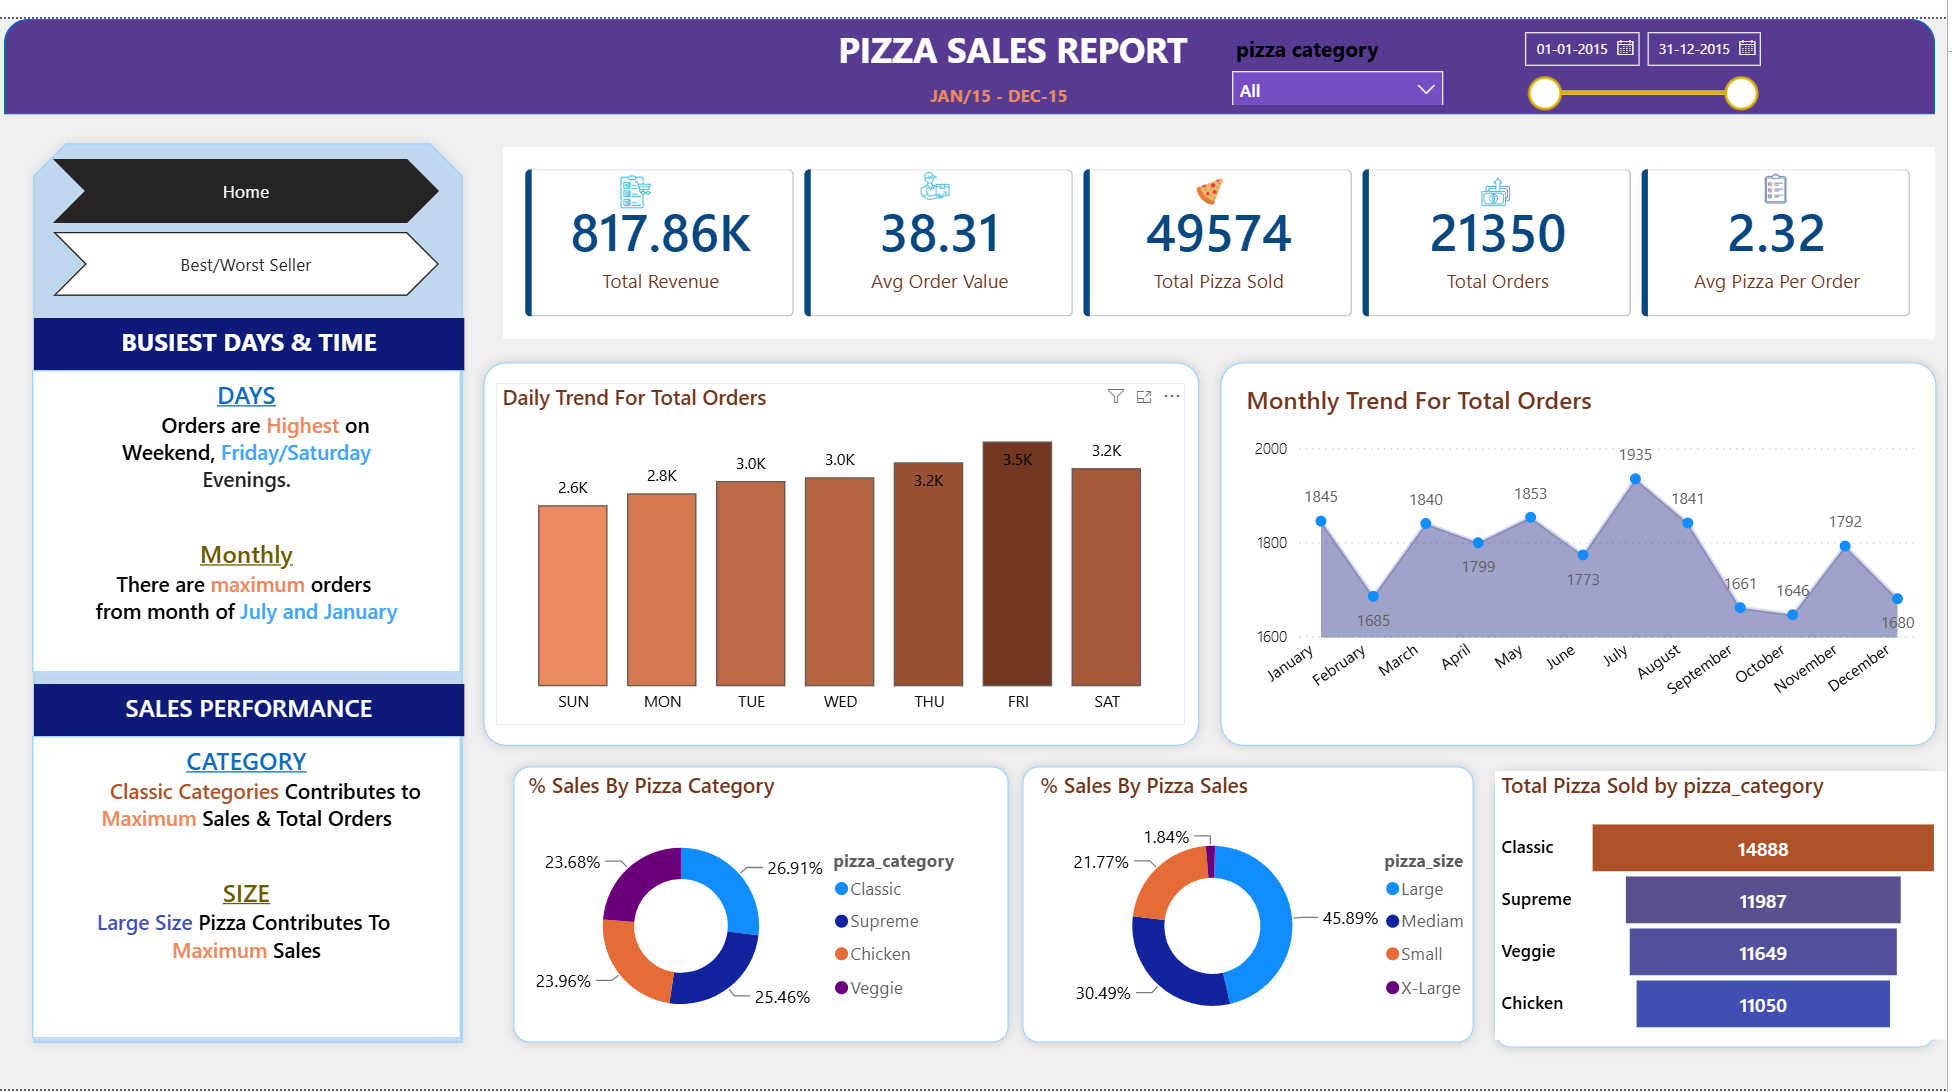

What the dashboard file says about the page in this screenshot:
{"tool":"powerbi","page":{"name":"Home","canvas":[1500,820],"ordinal":0},"visuals":[{"type":"cardVisual","fields":{"Data":["pizza_sales.Total Revenue","pizza_sales.Avg Order Value","pizza_sales.Total Pizza Sold","pizza_sales.Total Orders","pizza_sales.Avg Pizza Per Order"]},"box":[392.6,98.2,1098.2,147.2],"z":0},{"type":"image","box":[1133.4,119.6,40.6,25.6],"z":1000},{"type":"image","box":[911,121.9,46.7,20.6],"z":2000},{"type":"image","box":[475.5,119.6,37.8,25.6],"z":3000},{"type":"image","box":[709.4,116.6,28.9,22.8],"z":4000},{"type":"image","box":[1356.6,115,24.4,30],"z":5000},{"type":"shape","box":[10,0,1480.8,73.3],"z":6000},{"type":"textbox","box":[640,0,286.7,48.3],"z":7000},{"type":"textbox","box":[690,44.2,165.8,29.2],"z":8000},{"type":"shape","box":[369.6,255.4,565,310],"z":9000},{"type":"columnChart","title":"Daily Trend For Total Orders","fields":{"Category":["pizza_sales.Ordar Day"],"Y":["pizza_sales.Total Orders"]},"box":[387.3,279.1,528.3,262.5],"z":10000},{"type":"shape","box":[24.5,87.4,345.1,705.5],"z":11000},{"type":"shape","box":[934.8,255.4,565,310],"z":12000},{"type":"areaChart","title":"Monthly Trend For Total Orders","fields":{"Category":["pizza_sales.Month Name"],"Y":["pizza_sales.Total Orders"]},"box":[957.8,279.1,525.3,262.3],"z":13000},{"type":"shape","box":[392.6,565.2,395.7,227.8],"z":14000},{"type":"shape","box":[783,565.2,362,227.8],"z":16000},{"type":"shape","box":[1144.9,569,354.3,227.8],"z":17000},{"type":"donutChart","title":"% Sales By Pizza Category","fields":{"Category":["pizza_sales.pizza_category"],"Y":["pizza_sales.Total Revenue"]},"box":[407.2,576.7,352.8,205.5],"z":18000},{"type":"donutChart","title":"% Sales By Pizza Sales","fields":{"Y":["pizza_sales.Total Revenue"],"Category":["pizza_sales.pizza_size"]},"box":[799.8,576.7,353.5,205.5],"z":19000},{"type":"funnel","fields":{"Category":["pizza_sales.pizza_category"],"Y":["pizza_sales.Total Pizza Sold"]},"box":[1153.4,576.7,346.6,205.5],"z":20000},{"type":"slicer","fields":{"Values":["pizza_sales.pizza_category"]},"box":[941.7,6.9,181.7,59],"z":24000},{"type":"slicer","fields":{"Values":["pizza_sales.order_date"]},"box":[1163.3,0,200.2,73.6],"z":25000},{"type":"textbox","box":[33,510,329.8,39.9],"z":25001},{"type":"textbox","box":[33,229.3,329.8,39.9],"z":25002},{"type":"textbox","box":[31.4,269.2,329,232.4],"z":25003},{"type":"textbox","box":[31.4,549.8,329,232.4],"z":25004},{"type":"pageNavigator","box":[47.5,107.4,296.8,49.8],"z":25005},{"type":"pageNavigator","box":[47.5,163.3,296.8,49.8],"z":25006}]}

Visuals, with their boxes in screenshot pixels (x1, y1, x2, y2), scaled from the page's 1500x820 canvas onto the 1952x1092 screenshot:
cardVisual - pizza_sales.Total Revenue x pizza_sales.Avg Order Value: [left=511, top=131, right=1940, bottom=327]
image: [left=1475, top=159, right=1528, bottom=193]
image: [left=1186, top=162, right=1246, bottom=190]
image: [left=619, top=159, right=668, bottom=193]
image: [left=923, top=155, right=961, bottom=186]
image: [left=1765, top=153, right=1797, bottom=193]
shape: [left=13, top=0, right=1940, bottom=98]
textbox: [left=833, top=0, right=1206, bottom=64]
textbox: [left=898, top=59, right=1114, bottom=98]
shape: [left=481, top=340, right=1216, bottom=753]
"Daily Trend For Total Orders" columnChart: [left=504, top=372, right=1192, bottom=721]
shape: [left=32, top=116, right=481, bottom=1056]
shape: [left=1216, top=340, right=1951, bottom=753]
"Monthly Trend For Total Orders" areaChart: [left=1246, top=372, right=1930, bottom=721]
shape: [left=511, top=753, right=1026, bottom=1056]
shape: [left=1019, top=753, right=1490, bottom=1056]
shape: [left=1490, top=758, right=1951, bottom=1061]
"% Sales By Pizza Category" donutChart: [left=530, top=768, right=989, bottom=1042]
"% Sales By Pizza Sales" donutChart: [left=1041, top=768, right=1501, bottom=1042]
funnel - pizza_sales.pizza_category x pizza_sales.Total Pizza Sold: [left=1501, top=768, right=1951, bottom=1042]
slicer - pizza_sales.pizza_category: [left=1225, top=9, right=1462, bottom=88]
slicer - pizza_sales.order_date: [left=1514, top=0, right=1774, bottom=98]
textbox: [left=43, top=679, right=472, bottom=732]
textbox: [left=43, top=305, right=472, bottom=358]
textbox: [left=41, top=358, right=469, bottom=668]
textbox: [left=41, top=732, right=469, bottom=1042]
pageNavigator: [left=62, top=143, right=448, bottom=209]
pageNavigator: [left=62, top=217, right=448, bottom=284]
